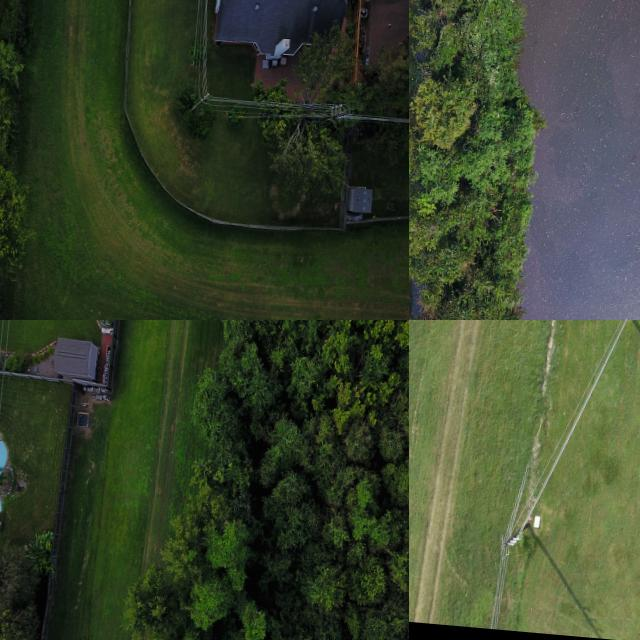fire: (519, 0, 640, 320)
